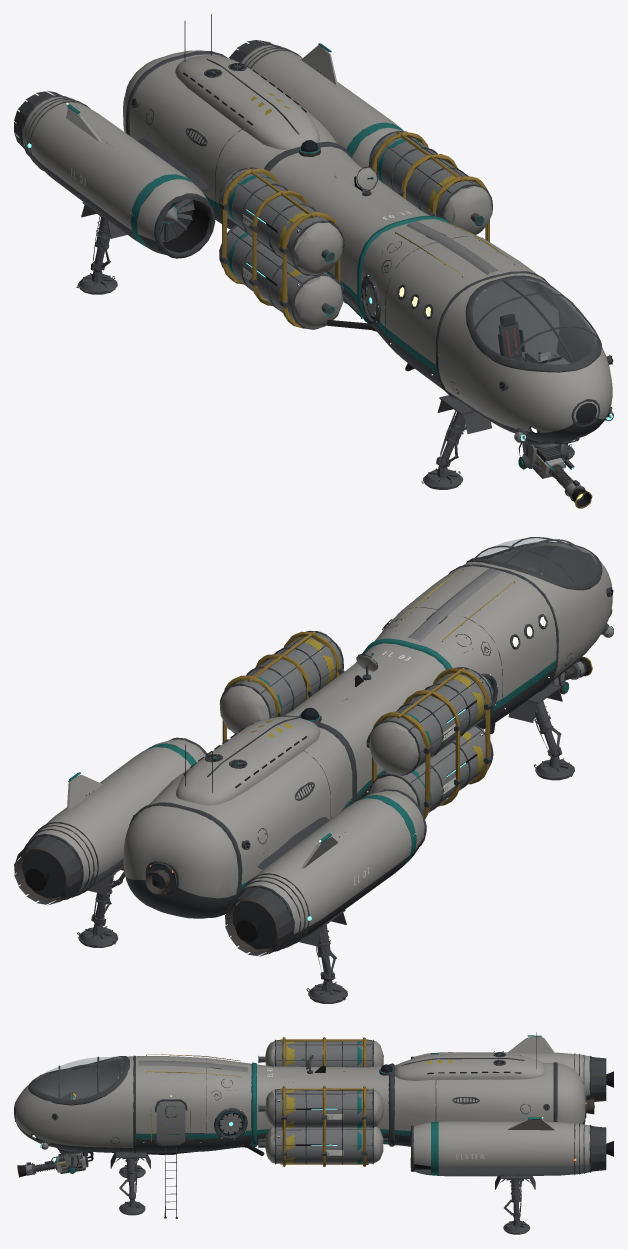
Rendered from ElsterFern.glb.
3 renders of one model, top to bottom at view 1: azimuth 30°, elevation 25°; view 2: azimuth 150°, elevation 25°; view 3: azimuth 270°, elevation 25°, orthographic. The views are drawn at different scales.
Parts seen in each view (by area): view 1: Gondel links.001, Antennenfuss.002, Erzkanister.004, Flosse.002, HUD-Scheibe.001, Cockpitwanne.001, Klammerschiene.004, Abstreifer.004, Bauchklappe.012, Ablauf.006, Blendenlamelle.008, Fokuseinheit.001 (+2 smaller); view 2: Gondel links.001, Antennenfuss.002, Erzkanister.004, Flosse.002, Abstreifer.004, Klammerschiene.004, HUD-Scheibe.001, Glut.002, Cockpitwanne.001, Bauchklappe.012, Duesenglocke.002, Ablauf.006 (+4 smaller); view 3: Gondel links.001, Erzkanister.004, Antennenfuss.002, Flosse.002, Fokuseinheit.001, Abstreifer.004, HUD-Scheibe.001, Cockpitwanne.001, Klammerschiene.004, Bauchklappe.012, Antriebsdeckel.001, Ablauf.006 (+4 smaller).
Part boxes in pixels (left/top/right/bottom): Gondel links.001: left=23, top=45, right=612, bottom=441; Antennenfuss.002: left=14, top=40, right=613, bottom=501; Erzkanister.004: left=220, top=132, right=478, bottom=320; Flosse.002: left=66, top=45, right=564, bottom=478; HUD-Scheibe.001: left=473, top=279, right=596, bottom=363; Cockpitwanne.001: left=472, top=279, right=596, bottom=363; Klammerschiene.004: left=222, top=131, right=489, bottom=328; Abstreifer.004: left=76, top=202, right=574, bottom=489; Bauchklappe.012: left=146, top=109, right=601, bottom=393; Ablauf.006: left=131, top=14, right=613, bottom=507; Blendenlamelle.008: left=24, top=46, right=612, bottom=501; Fokuseinheit.001: left=163, top=206, right=613, bottom=500; Gondel links.001: left=27, top=542, right=612, bottom=947; Antennenfuss.002: left=14, top=564, right=613, bottom=956; Erzkanister.004: left=235, top=632, right=491, bottom=812; Flosse.002: left=67, top=631, right=564, bottom=868; Abstreifer.004: left=77, top=683, right=574, bottom=1003; Klammerschiene.004: left=222, top=631, right=490, bottom=819; HUD-Scheibe.001: left=474, top=538, right=596, bottom=581; Glut.002: left=21, top=849, right=276, bottom=949; Cockpitwanne.001: left=489, top=545, right=597, bottom=581; Bauchklappe.012: left=257, top=537, right=602, bottom=844; Duesenglocke.002: left=17, top=667, right=575, bottom=953; Ablauf.006: left=25, top=589, right=613, bottom=942; Gondel links.001: left=15, top=1052, right=589, bottom=1176; Erzkanister.004: left=276, top=1040, right=372, bottom=1163; Antennenfuss.002: left=15, top=1039, right=606, bottom=1175; Flosse.002: left=56, top=1036, right=554, bottom=1172; Fokuseinheit.001: left=25, top=1060, right=247, bottom=1175; Abstreifer.004: left=110, top=1133, right=535, bottom=1234; HUD-Scheibe.001: left=33, top=1057, right=123, bottom=1098; Cockpitwanne.001: left=33, top=1058, right=124, bottom=1097; Klammerschiene.004: left=280, top=1037, right=368, bottom=1166; Bauchklappe.012: left=28, top=1056, right=530, bottom=1150; Antriebsdeckel.001: left=51, top=1035, right=541, bottom=1172; Ablauf.006: left=17, top=1032, right=613, bottom=1176.
Size of the model in its own units: 8.48 by 6.59 by 23.1.
